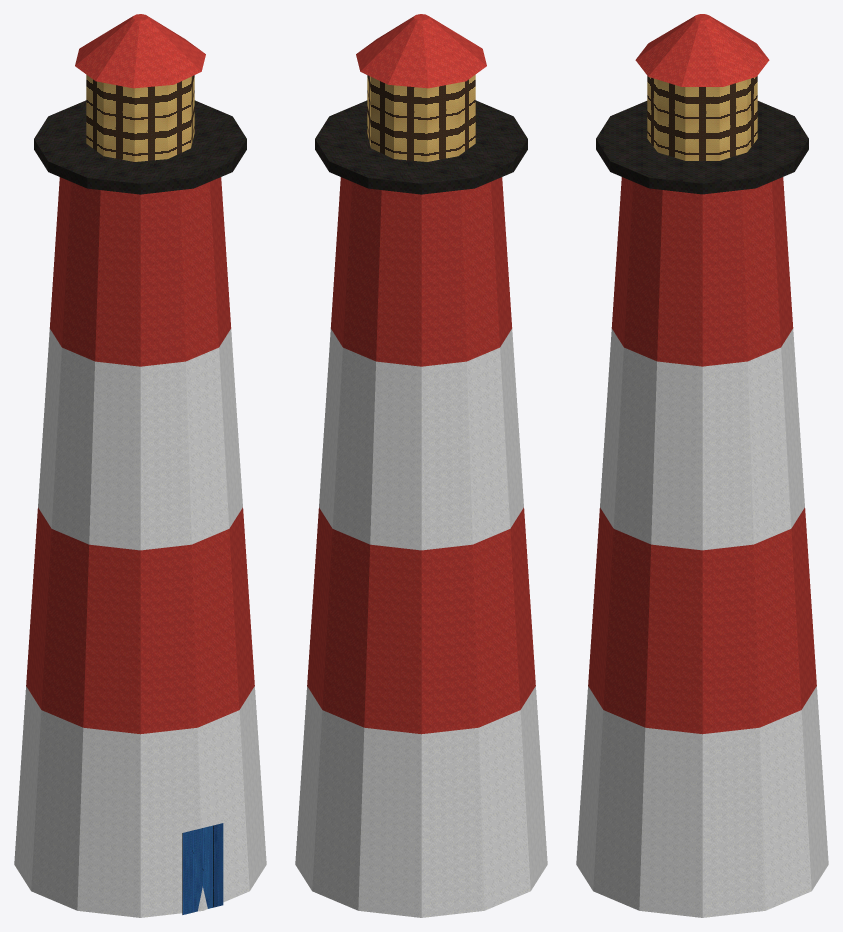
The model's file is faro.obj.
The picture shows the model from 3 angles, left to right: view 1: azimuth 30°, elevation 25°; view 2: azimuth 150°, elevation 25°; view 3: azimuth 270°, elevation 25°; orthographic projection.
Parts seen in each view (by area): view 1: faro; view 2: faro; view 3: faro.
Boxes of the visible parts, box(x1,y1,x2,y2) form: faro: box(14, 14, 266, 917); faro: box(295, 14, 547, 917); faro: box(576, 14, 828, 917).
Bounding box in the file's own units: 6.4 × 23.7 × 6.4.
5 materials, 5 textured.
